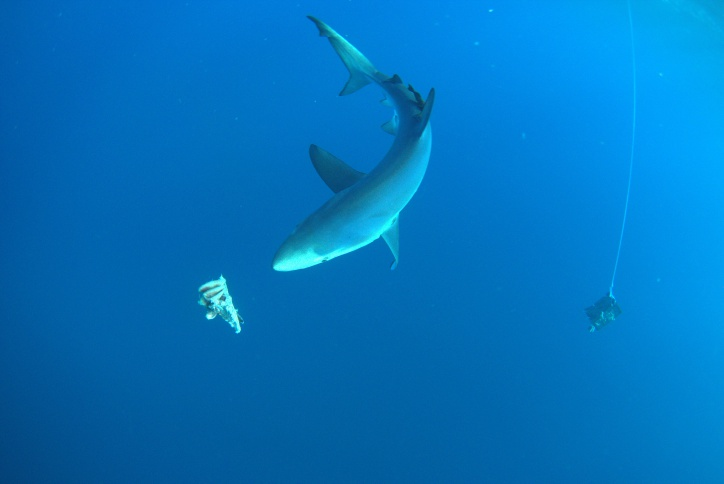Azul: (246, 12, 448, 307)
